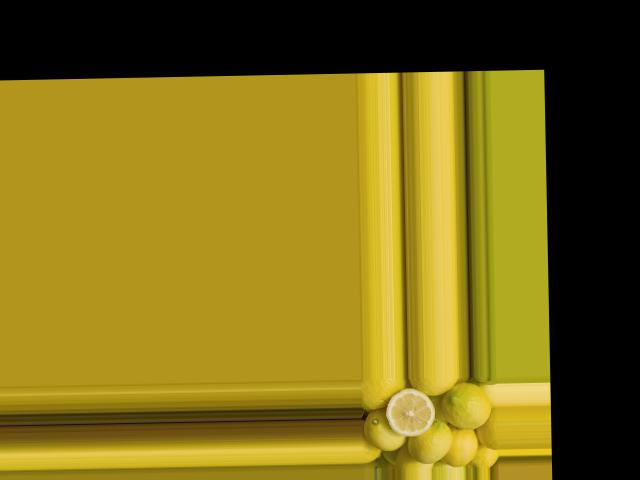lemon: (365, 412, 402, 450)
